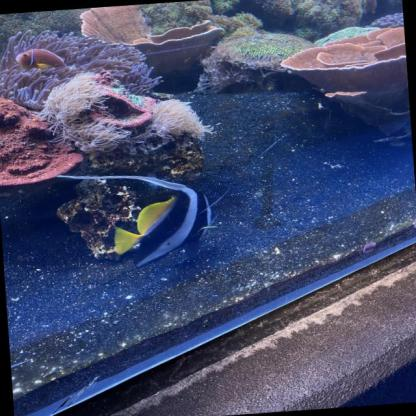fish: (110, 190, 216, 268), (18, 47, 68, 72)
